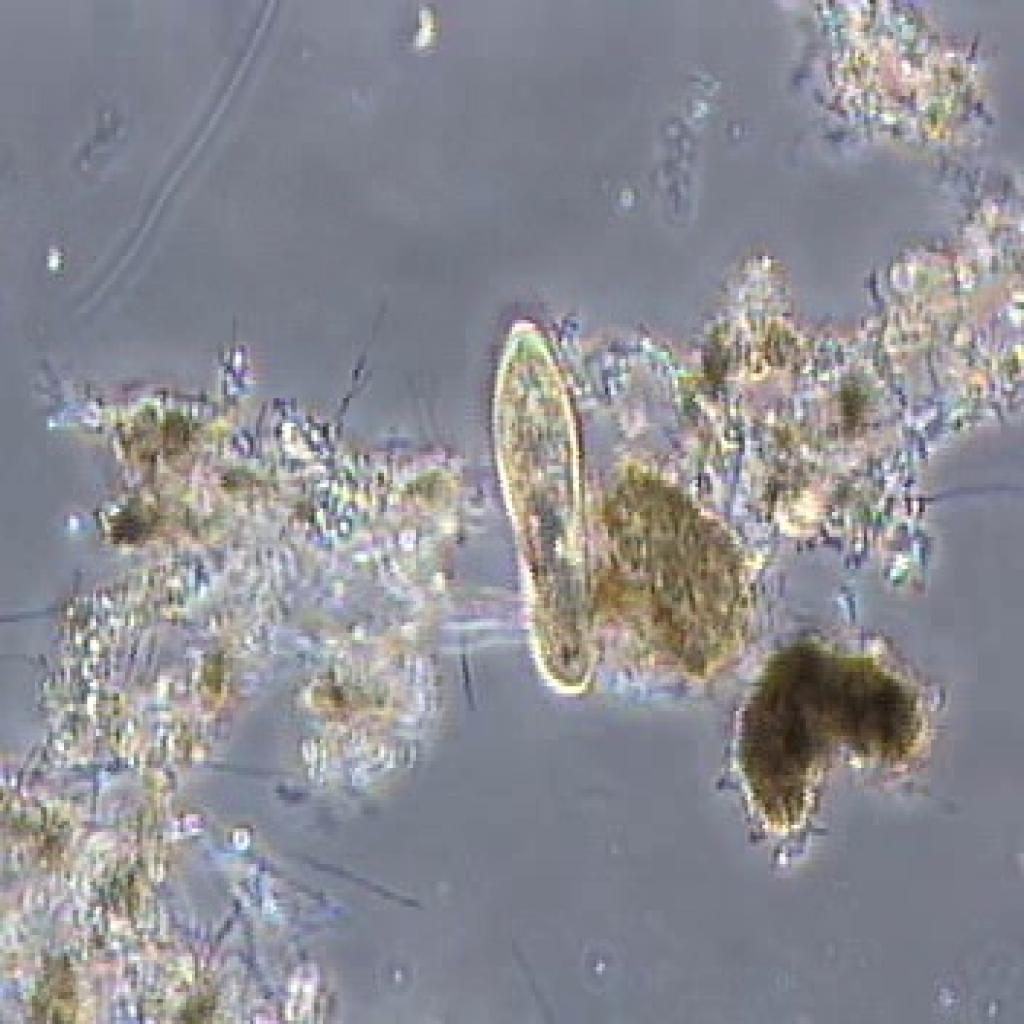Paramecium: (461, 290, 615, 698)
